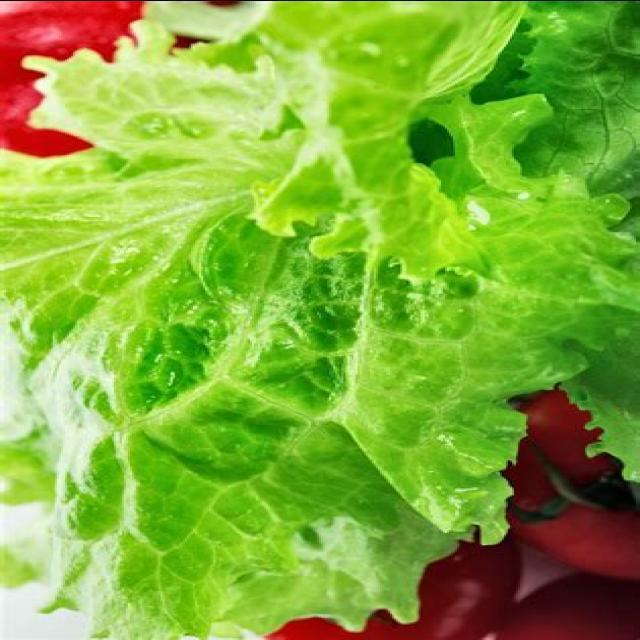healthy: (14, 163, 474, 535)
